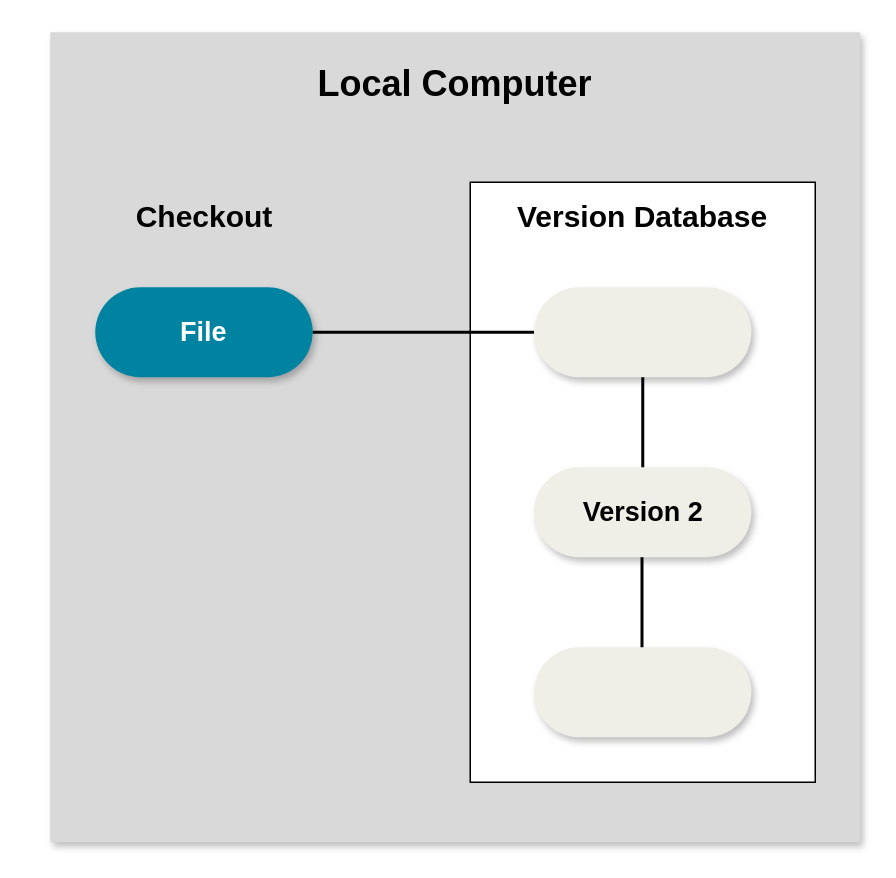
The diagram is 896 pixels wide and 878 high, and some of its shapes have lost their labels. The shapes that lost their labels are listed below. From the top down, each one's centre as x and y in pixels, then its label:
At point 643,333: "Version 3".
At point 643,693: "Version 1".
